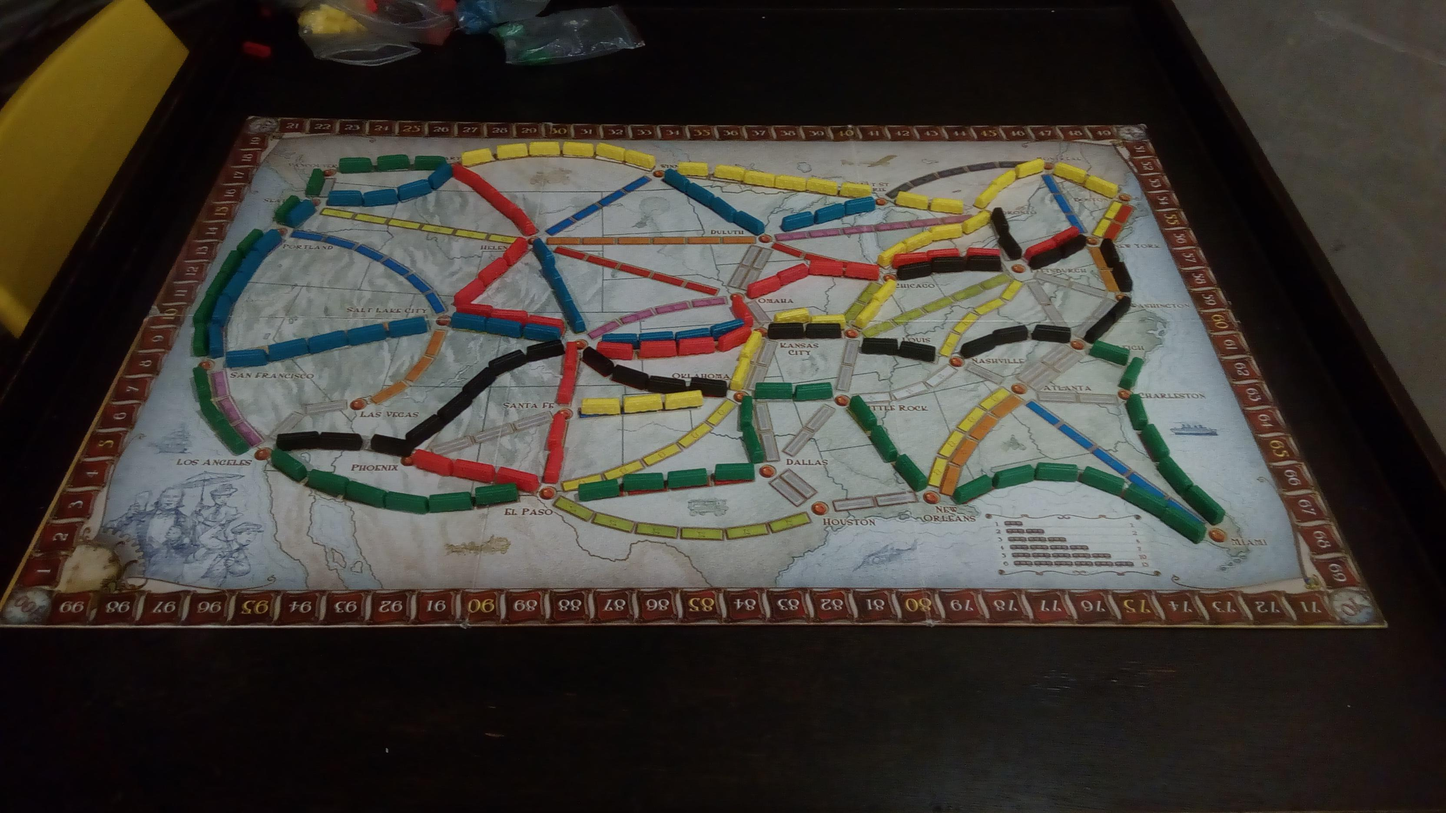black_train: (405, 414, 444, 445), (437, 393, 473, 424), (369, 433, 415, 457), (582, 347, 615, 377), (1084, 314, 1114, 345), (894, 340, 936, 362), (611, 366, 648, 390), (959, 334, 996, 358), (463, 370, 495, 397), (489, 350, 526, 373), (276, 431, 319, 450), (526, 340, 563, 362), (317, 432, 362, 450), (1028, 247, 1063, 270), (688, 377, 727, 397), (1030, 324, 1071, 343), (997, 232, 1022, 261), (647, 375, 687, 393), (992, 325, 1029, 344), (896, 261, 930, 281), (1112, 261, 1133, 293), (1100, 237, 1121, 269), (1059, 234, 1087, 258), (861, 337, 898, 354), (768, 322, 804, 339), (804, 322, 842, 338), (1108, 296, 1131, 322), (931, 256, 966, 273), (966, 256, 1001, 273), (991, 208, 1010, 234)
blue_train: (281, 200, 316, 228), (306, 330, 348, 353), (268, 338, 309, 360), (222, 268, 250, 299), (347, 324, 387, 345), (387, 317, 428, 337), (250, 230, 282, 255), (226, 349, 269, 367), (733, 211, 765, 235), (397, 179, 432, 200), (237, 250, 264, 277), (709, 196, 737, 222), (564, 302, 587, 333), (451, 311, 486, 331), (487, 317, 522, 337), (553, 278, 574, 311), (327, 188, 367, 205), (780, 211, 814, 231), (361, 188, 398, 206), (211, 293, 233, 323), (662, 169, 690, 192), (711, 319, 743, 339), (428, 163, 452, 189), (522, 324, 561, 340), (532, 238, 555, 265), (685, 184, 713, 205), (601, 332, 639, 347), (208, 322, 224, 357), (542, 258, 562, 286), (813, 205, 844, 223), (844, 197, 876, 214), (676, 327, 710, 340), (640, 331, 674, 341), (724, 209, 725, 210)
green_train: (1182, 484, 1224, 523), (1161, 506, 1205, 542), (1157, 455, 1193, 494), (1123, 484, 1166, 516), (1079, 467, 1126, 495), (893, 454, 927, 491), (269, 449, 307, 482), (216, 418, 249, 456), (306, 469, 350, 496), (345, 480, 388, 507), (952, 476, 993, 503), (1141, 423, 1169, 462), (848, 396, 877, 431), (870, 426, 898, 462), (1089, 341, 1129, 366), (474, 484, 518, 506), (740, 423, 764, 463), (994, 465, 1035, 488), (384, 492, 428, 513), (578, 479, 620, 501), (428, 492, 473, 512), (666, 468, 708, 489), (713, 463, 755, 484), (192, 292, 217, 327), (622, 473, 665, 493), (1035, 462, 1078, 481), (1126, 394, 1148, 431), (1118, 358, 1143, 390), (200, 399, 225, 429), (219, 249, 244, 278), (192, 367, 212, 403), (794, 382, 833, 400), (753, 382, 793, 399), (236, 229, 262, 255), (205, 270, 229, 298), (274, 195, 298, 222), (376, 154, 411, 171), (193, 323, 210, 357), (338, 157, 373, 173), (305, 168, 324, 196), (739, 395, 755, 427), (413, 155, 445, 169)
red_train: (495, 466, 539, 491), (411, 450, 453, 475), (452, 459, 494, 483), (454, 278, 486, 308), (477, 257, 509, 287), (717, 327, 753, 351), (543, 446, 565, 484), (545, 413, 566, 451), (747, 275, 781, 298), (731, 294, 755, 326), (509, 207, 536, 235), (503, 237, 529, 266), (556, 369, 577, 404), (491, 190, 517, 217), (597, 341, 633, 360), (640, 340, 678, 358), (1024, 237, 1055, 259), (472, 178, 498, 204), (678, 337, 715, 355), (845, 262, 879, 281), (453, 165, 481, 188), (776, 264, 808, 284), (526, 314, 564, 330), (809, 259, 844, 276), (1053, 225, 1080, 247), (894, 252, 928, 268), (562, 341, 579, 373), (457, 303, 494, 317), (491, 309, 528, 321), (965, 247, 1000, 258), (926, 248, 960, 259)
yellow_train: (854, 300, 882, 330), (878, 241, 908, 268), (737, 330, 763, 361), (1084, 175, 1118, 197), (730, 357, 752, 391), (664, 390, 703, 409), (624, 394, 663, 413), (580, 398, 621, 416), (1053, 162, 1086, 184), (902, 230, 933, 252), (871, 278, 897, 304), (973, 184, 999, 209), (624, 149, 655, 169), (963, 211, 989, 234), (895, 192, 929, 209), (930, 197, 964, 214), (929, 224, 963, 241), (811, 314, 845, 331), (461, 148, 493, 166), (1014, 159, 1044, 178), (990, 169, 1017, 190), (773, 307, 810, 322), (806, 178, 838, 195), (744, 170, 775, 187), (713, 165, 744, 181), (562, 142, 594, 157), (840, 182, 871, 197), (596, 143, 625, 159), (497, 144, 527, 159), (775, 175, 805, 190), (677, 162, 708, 176), (529, 142, 560, 155)
